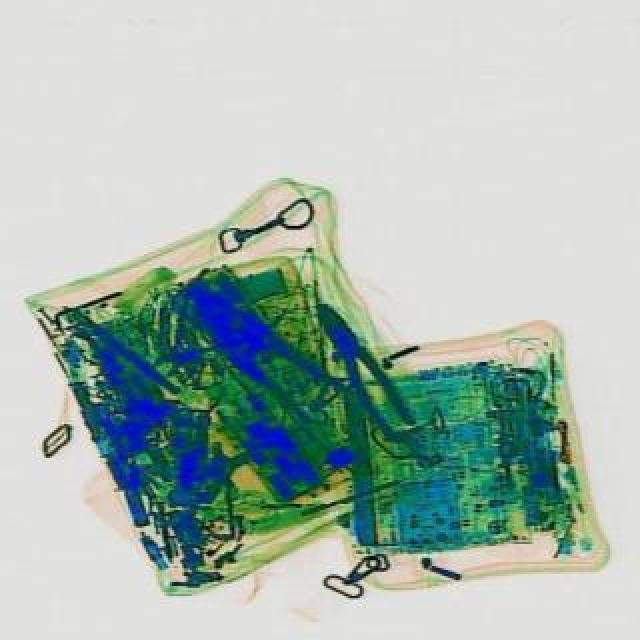wrench: (168, 266, 340, 424), (298, 294, 416, 440)
